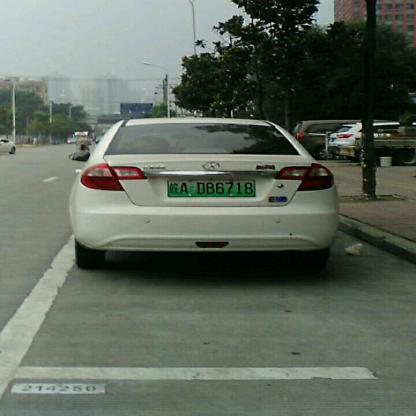lp: (166, 178, 255, 197)
